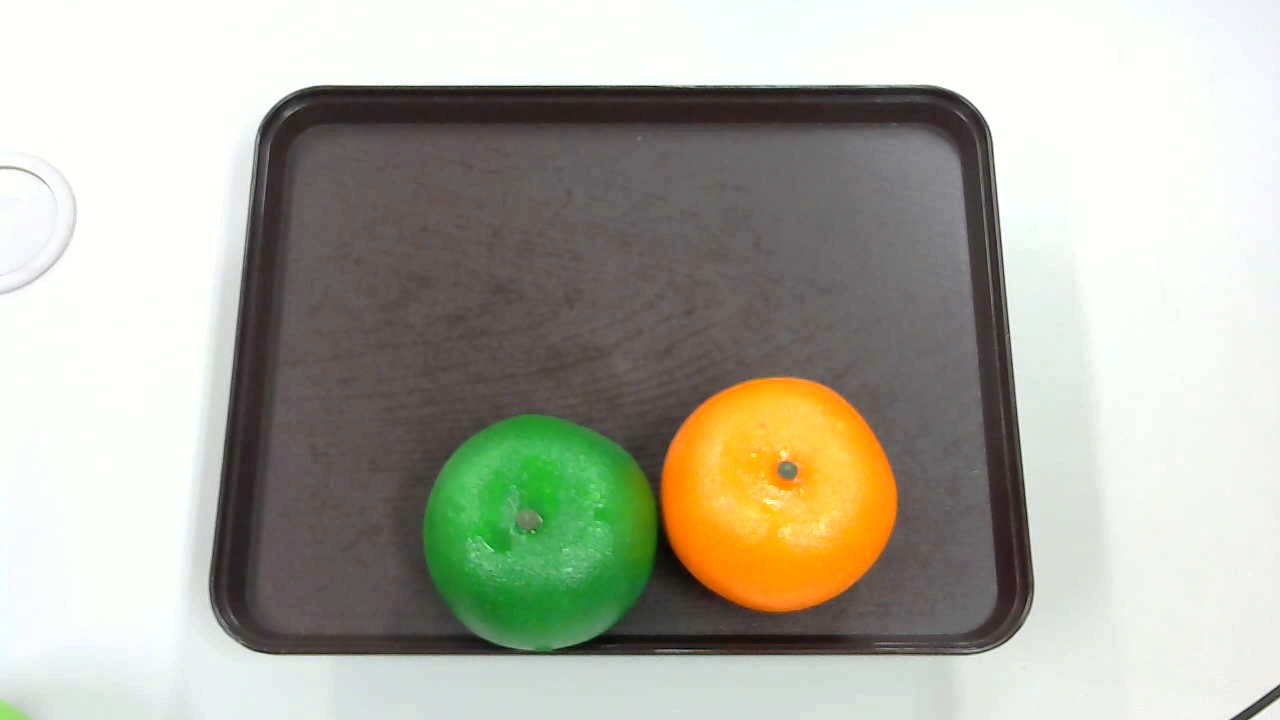green orange: (419, 411, 665, 656)
orange: (659, 374, 905, 614)
